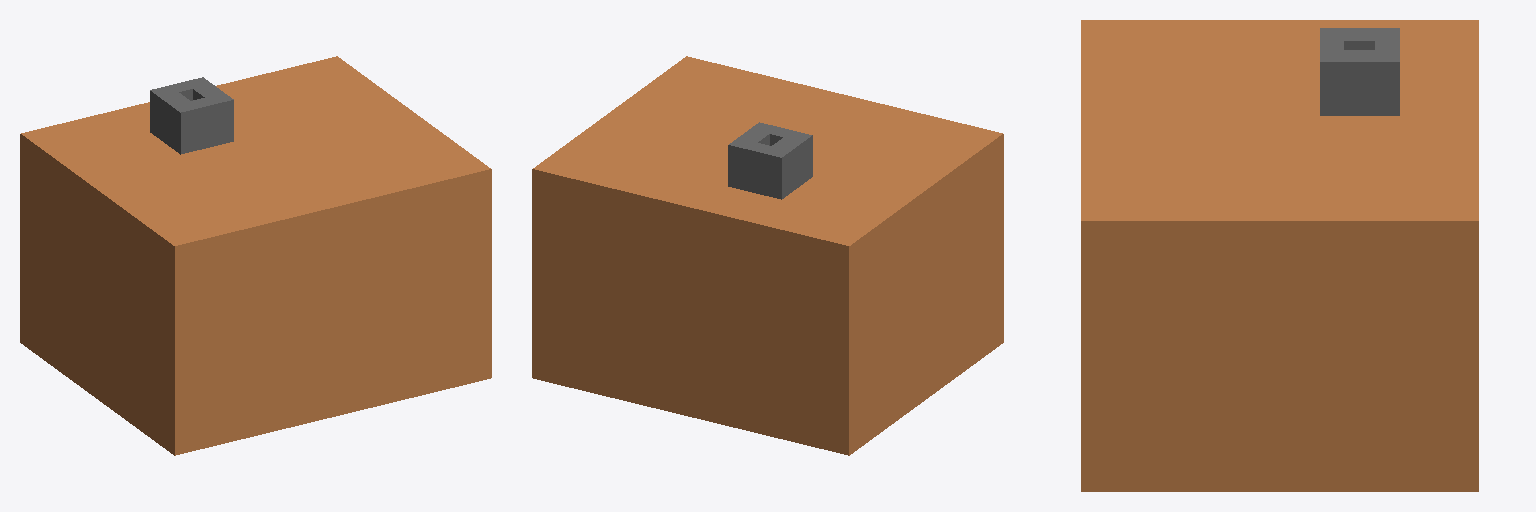
URDF robot description (peg_in_hole_scene_tol0p5mm):
<?xml version="1.0"?>
<robot name="peg_in_hole_scene_tol0p5mm">
  <material name="wood"><color rgba="0.82 0.56 0.35 1.0"/></material>
  <material name="hole_grey"><color rgba="0.4706 0.4706 0.4706 1.0"/></material>
  <link name="box">
    <visual>
      <origin xyz="0.000000 0.000000 0.000000" rpy="0 0 0"/>
      <geometry><box size="0.475000 0.400000 0.300000"/></geometry>
      <material name="wood"/>
    </visual>
    <collision>
      <origin xyz="0.000000 0.000000 0.000000" rpy="0 0 0"/>
      <geometry><box size="0.475000 0.400000 0.300000"/></geometry>
    </collision>
    <visual>
      <origin xyz="-0.050000 0.080000 0.155000" rpy="0 0 0"/>
      <geometry><box size="0.080000 0.080000 0.010000"/></geometry>
      <material name="hole_grey"/>
    </visual>
    <collision>
      <origin xyz="-0.050000 0.080000 0.155000" rpy="0 0 0"/>
      <geometry><box size="0.080000 0.080000 0.010000"/></geometry>
    </collision>
    <visual>
      <origin xyz="-0.024750 0.080000 0.185000" rpy="0 0 0"/>
      <geometry><box size="0.029500 0.080000 0.050000"/></geometry>
      <material name="hole_grey"/>
    </visual>
    <collision>
      <origin xyz="-0.024750 0.080000 0.185000" rpy="0 0 0"/>
      <geometry><box size="0.029500 0.080000 0.050000"/></geometry>
    </collision>
    <visual>
      <origin xyz="-0.075250 0.080000 0.185000" rpy="0 0 0"/>
      <geometry><box size="0.029500 0.080000 0.050000"/></geometry>
      <material name="hole_grey"/>
    </visual>
    <collision>
      <origin xyz="-0.075250 0.080000 0.185000" rpy="0 0 0"/>
      <geometry><box size="0.029500 0.080000 0.050000"/></geometry>
    </collision>
    <visual>
      <origin xyz="-0.050000 0.107750 0.185000" rpy="0 0 0"/>
      <geometry><box size="0.021000 0.024500 0.050000"/></geometry>
      <material name="hole_grey"/>
    </visual>
    <collision>
      <origin xyz="-0.050000 0.107750 0.185000" rpy="0 0 0"/>
      <geometry><box size="0.021000 0.024500 0.050000"/></geometry>
    </collision>
    <visual>
      <origin xyz="-0.050000 0.052250 0.185000" rpy="0 0 0"/>
      <geometry><box size="0.021000 0.024500 0.050000"/></geometry>
      <material name="hole_grey"/>
    </visual>
    <collision>
      <origin xyz="-0.050000 0.052250 0.185000" rpy="0 0 0"/>
      <geometry><box size="0.021000 0.024500 0.050000"/></geometry>
    </collision>
    <inertial>
      <mass value="500"/>
      <friction value="1.0"/>
      <inertia ixx="1000.0" ixy="0.0" ixz="0.0" iyy="1000.0" iyz="0.0" izz="1000.0"/>
    </inertial>
  </link>
</robot>

--- Render facts (derived) ---
3 views of the same robot in one strip: view 1: azimuth 30°, elevation 25°; view 2: azimuth 150°, elevation 25°; view 3: azimuth 270°, elevation 25° (orthographic).
Robot: peg_in_hole_scene_tol0p5mm — 1 links, 0 joints (none); root link box; default pose: all joints at 0.
Links seen in each view (by area): view 1: box; view 2: box; view 3: box.
Link boxes in pixels (x1,y1,x2,y2): box: [20, 56, 491, 455]; box: [532, 56, 1003, 455]; box: [1081, 20, 1478, 491].
Bounding box of the posed robot: 0.475 × 0.4 × 0.36 m (x, y, z).
Geometry: primitives only (box / cylinder / sphere), no mesh files.
